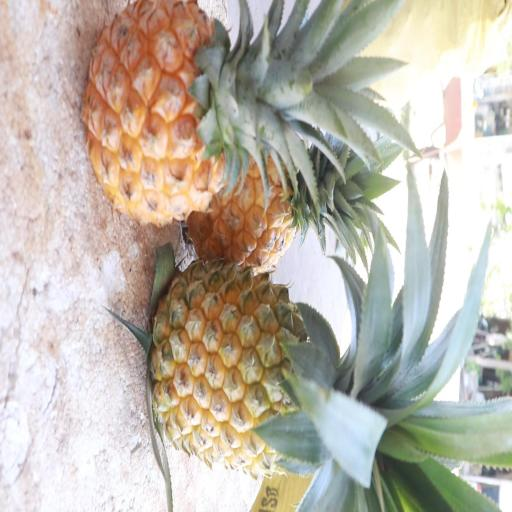Pineapple - v8 v1: (146, 260, 398, 470), (76, 1, 302, 232), (182, 130, 348, 272)
